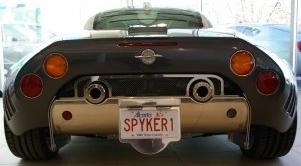back_view: (7, 44, 301, 157)
backlight: (230, 41, 290, 104)
